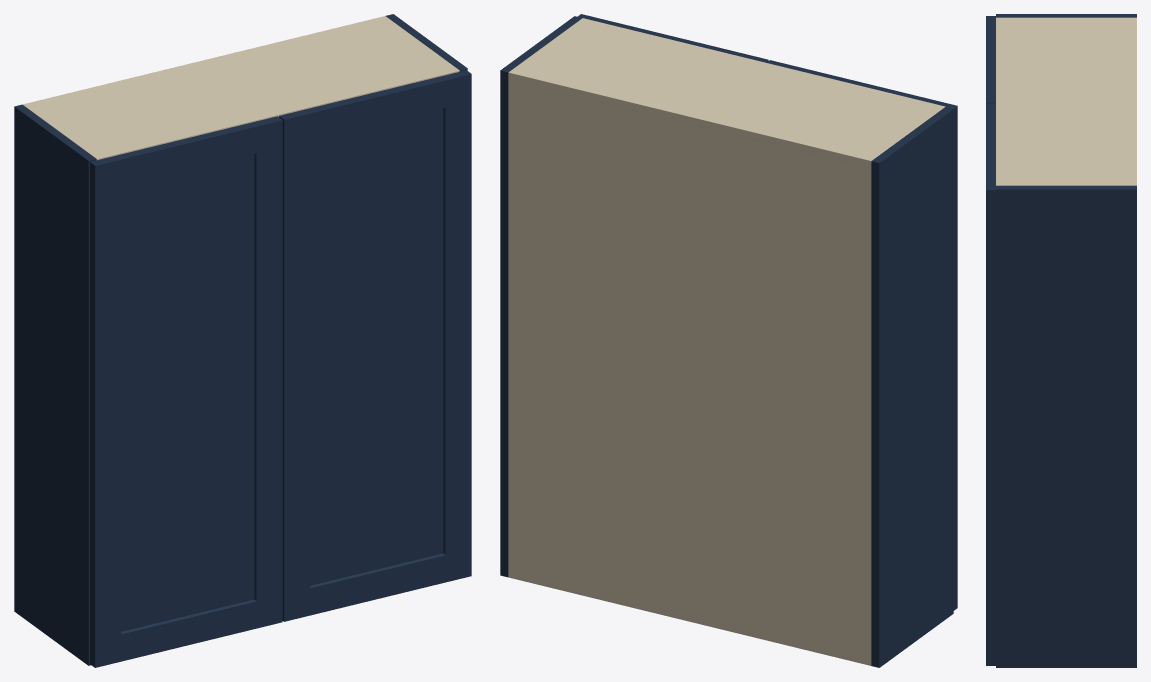
File: oppein-ply-bss-w3342.glb
3 views of the same model, side by side, from view 1: azimuth 30°, elevation 25°; view 2: azimuth 150°, elevation 25°; view 3: azimuth 270°, elevation 25° (orthographic). The views are drawn at different scales.
Visible parts, largest first — view 1: Door, Door.001, Cabinet side, Cabinet top; view 2: Cabinet back, Cabinet side, Cabinet top, Cabinet side.001, Door, Door.001, Cabinet bottom; view 3: Cabinet side.001, Cabinet top, Door.001, Door, Cabinet side.
Boxes of the visible parts, x1,y1,x2,y2 form: Door: (90, 116, 282, 667); Door.001: (279, 70, 471, 621); Cabinet side: (14, 104, 96, 665); Cabinet top: (22, 16, 459, 160); Cabinet back: (508, 72, 872, 665); Cabinet side: (871, 106, 953, 667); Cabinet top: (508, 18, 945, 168); Cabinet side.001: (500, 16, 582, 577); Door: (766, 60, 957, 610); Door.001: (577, 14, 768, 62); Cabinet bottom: (508, 570, 871, 665); Cabinet side.001: (996, 185, 1136, 667); Cabinet top: (996, 17, 1136, 185); Door.001: (986, 103, 995, 665); Door: (986, 16, 995, 103); Cabinet side: (996, 14, 1136, 17).
Size of the model in its own units: 0.8382 by 1.07 by 0.3048.
